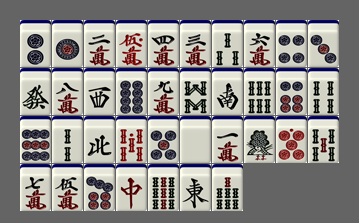0m: (116, 20, 147, 67)
0p: (276, 116, 307, 163)
0s: (116, 116, 147, 163)
1m: (212, 116, 243, 163)
1p: (52, 20, 83, 67)
1s: (244, 116, 275, 163)
1z: (180, 164, 211, 211)
2m: (84, 20, 115, 67)
2p: (20, 20, 51, 67)
2s: (52, 116, 83, 163)
2z: (212, 68, 243, 115)
3m: (180, 20, 211, 67)
3p: (308, 20, 339, 67)
3s: (212, 20, 243, 67)
3z: (84, 68, 115, 115)
4m: (148, 20, 179, 67)
4p: (276, 20, 307, 67)
4s: (308, 68, 339, 115)
4z: (84, 116, 115, 163)
5m: (52, 164, 83, 211)
5p: (148, 116, 179, 163)
5s: (308, 116, 339, 163)
5z: (180, 116, 211, 163)
6m: (244, 20, 275, 67)
6p: (276, 68, 307, 115)
6s: (244, 68, 275, 115)
6z: (20, 68, 51, 115)
7m: (20, 164, 51, 211)
7p: (84, 164, 115, 211)
7s: (212, 164, 243, 211)
7z: (116, 164, 147, 211)
8m: (52, 68, 83, 115)
8p: (116, 68, 147, 115)
8s: (180, 68, 211, 115)
9m: (148, 68, 179, 115)
9p: (20, 116, 51, 163)
9s: (148, 164, 179, 211)
